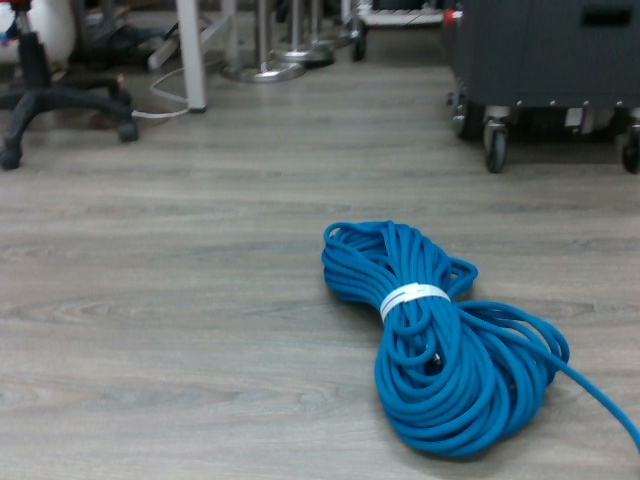rope: (312, 209, 577, 458)
